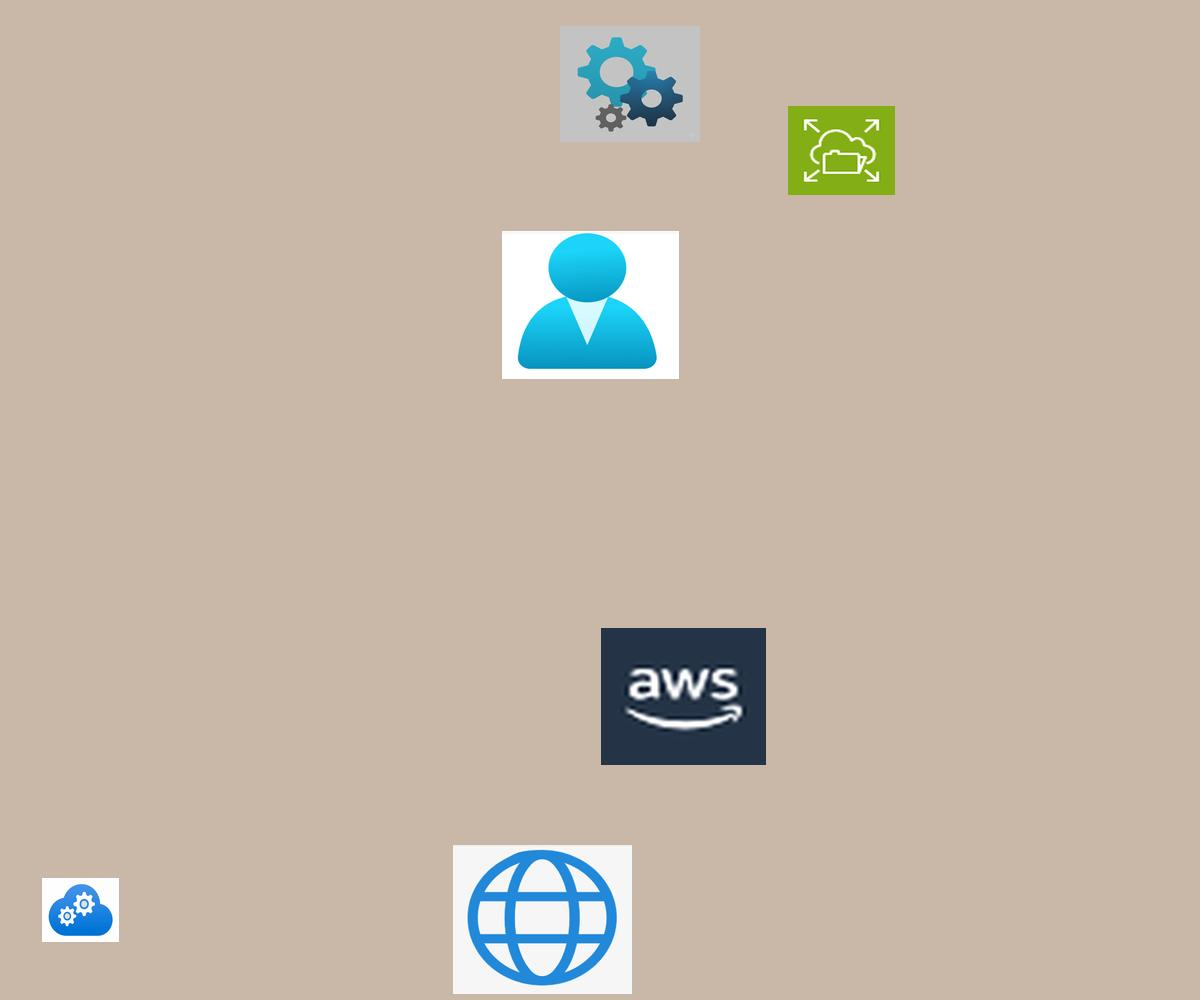AWS-Cloud-logo: (601, 628, 766, 765)
AWS-EFS: (788, 106, 895, 195)
Azure_api: (560, 26, 700, 142)
Azure_cloud_services: (42, 878, 119, 942)
Azure_http: (453, 845, 632, 994)
Azure_users: (502, 231, 679, 379)
